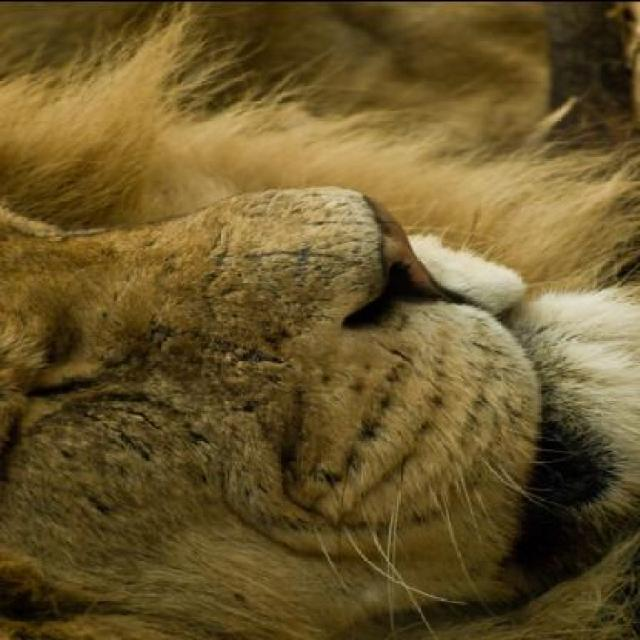Lion: (14, 7, 638, 638)
